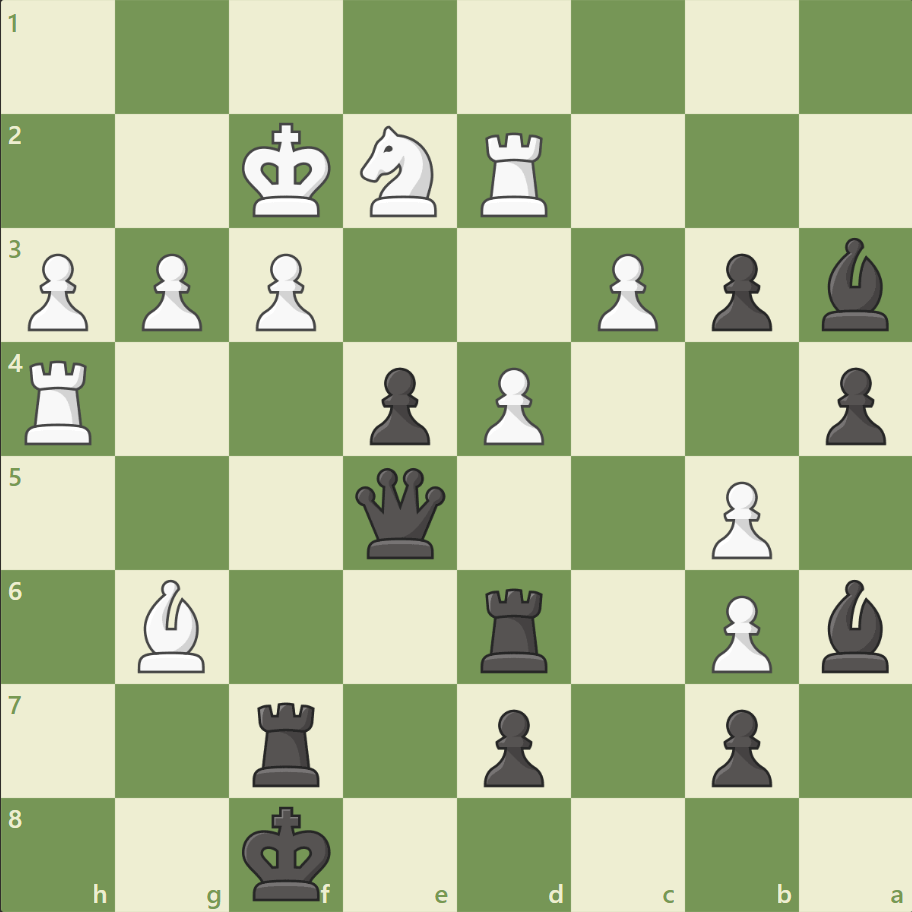B: (131, 574, 215, 676)
K: (238, 117, 338, 225)
N: (351, 121, 449, 223)
P: (701, 586, 776, 677), (701, 473, 776, 564), (474, 359, 549, 450), (247, 246, 322, 337), (133, 246, 208, 337), (20, 246, 95, 337), (588, 246, 662, 337)
R: (19, 352, 102, 449), (473, 125, 556, 222)
b: (812, 233, 896, 336), (812, 574, 896, 676)
k: (238, 798, 338, 906)
p: (701, 700, 776, 791), (474, 700, 549, 791), (701, 246, 776, 337), (815, 359, 889, 450), (361, 359, 435, 450)
q: (351, 463, 450, 562)
r: (246, 693, 329, 790), (473, 579, 556, 676)
